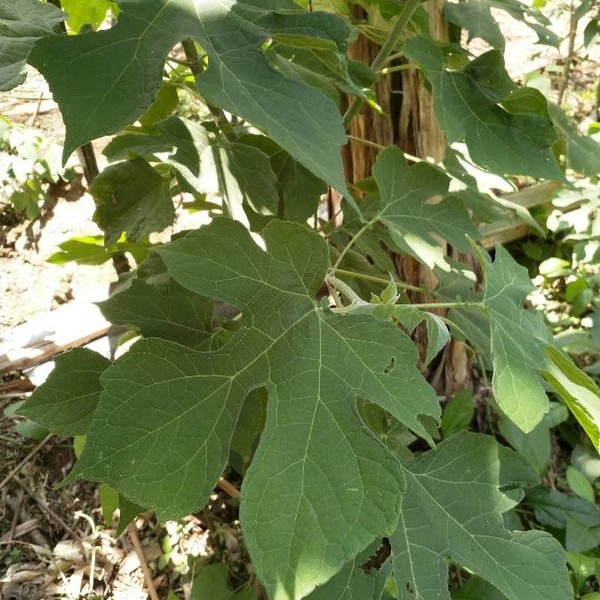obstacle: (71, 50, 526, 551)
